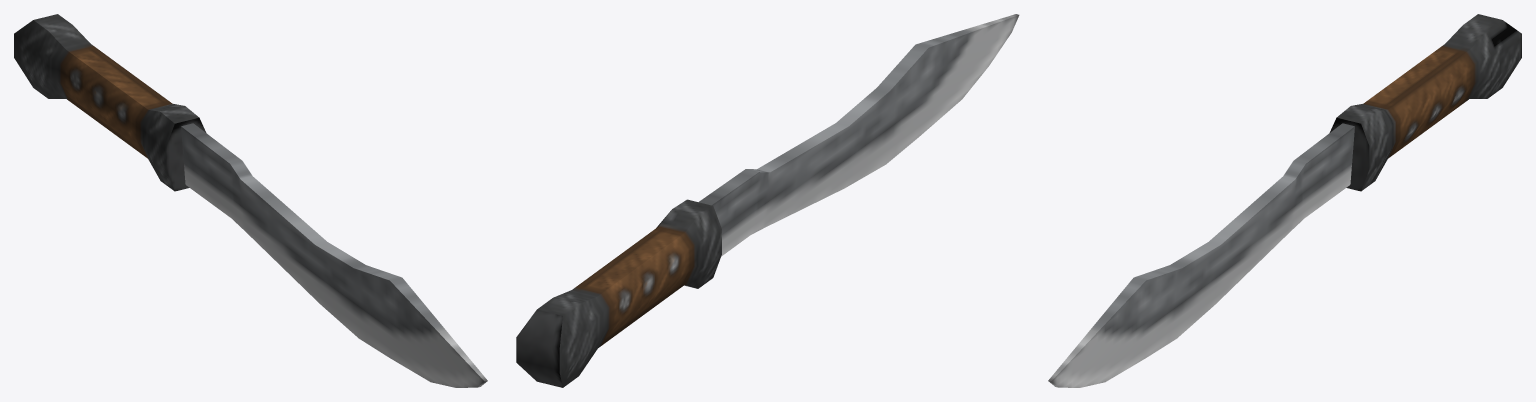
File: silverDagger.fbx
The picture shows the model from 3 angles, left to right: view 1: azimuth 30°, elevation 25°; view 2: azimuth 150°, elevation 25°; view 3: azimuth 330°, elevation 25°; orthographic projection. The views are drawn at different scales.
Parts seen in each view (by area): view 1: silverDagger; view 2: silverDagger; view 3: silverDagger.
Part boxes in pixels (x1,y1,x2,y2): silverDagger: (14,14,487,387); silverDagger: (516,14,1019,387); silverDagger: (1048,14,1521,387).
Size of the model in its own units: 0.2777 by 0.5975 by 5.32.
